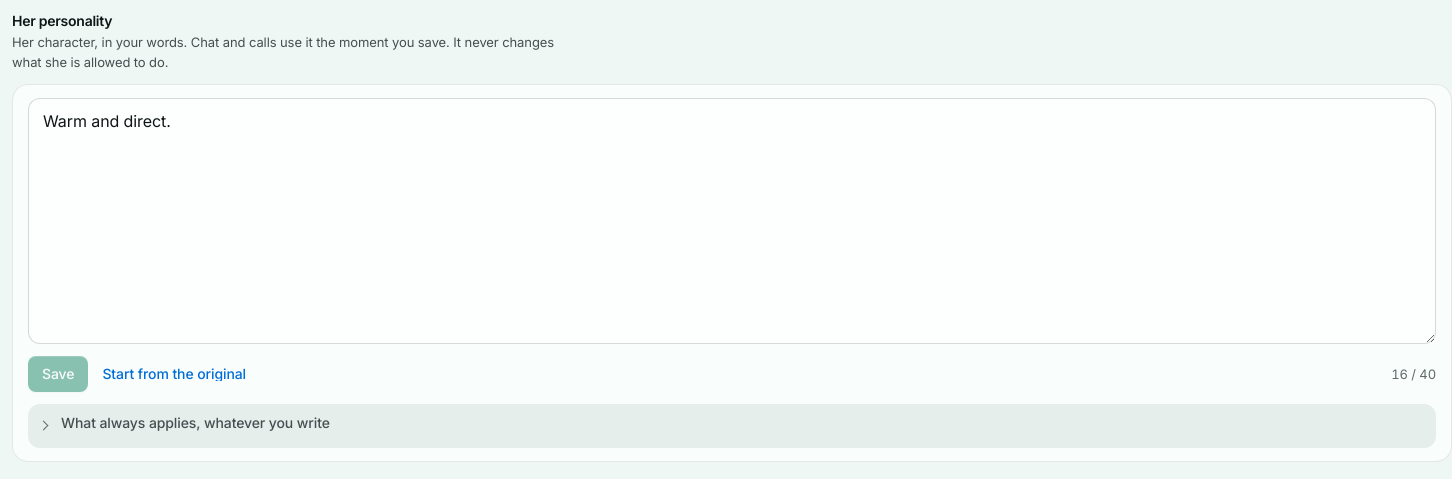
Test: her personality › offers the original as a draft, not as a save
The image size is (1452, 479).
What coordinates should you click on to do the following:
click the button "Start from the original"
I would click on:
 (174, 374)
Its box is [96, 356, 252, 392].
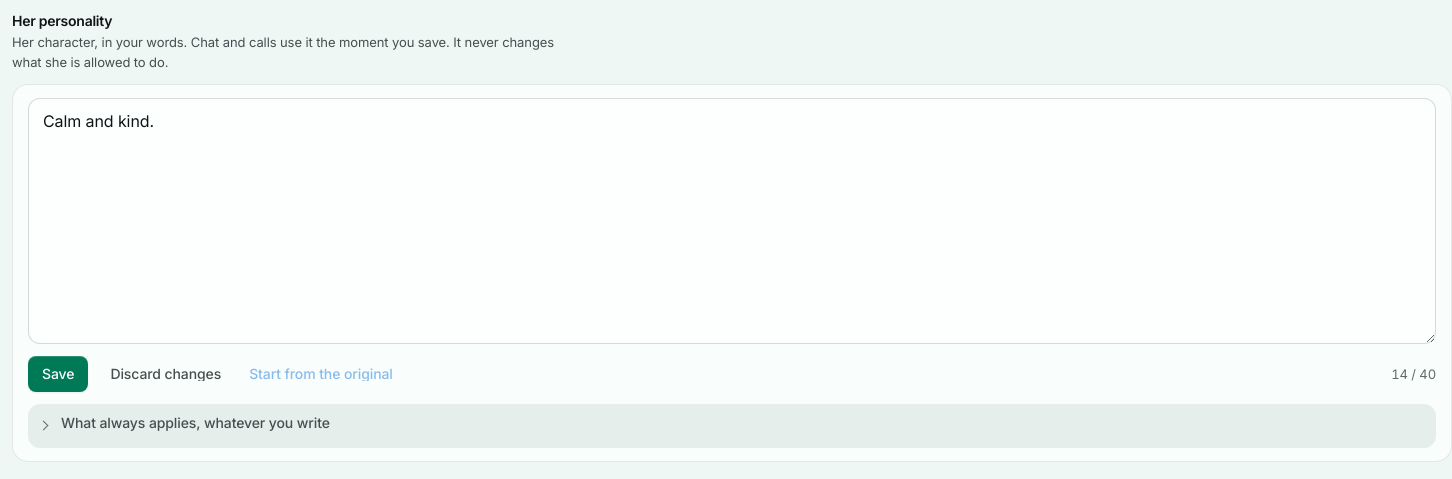
Check: the text box named "Personality" holds "Calm and kind.", box [28, 98, 1436, 344]
Check: the button "Save" is enabled, box [28, 356, 88, 392]
